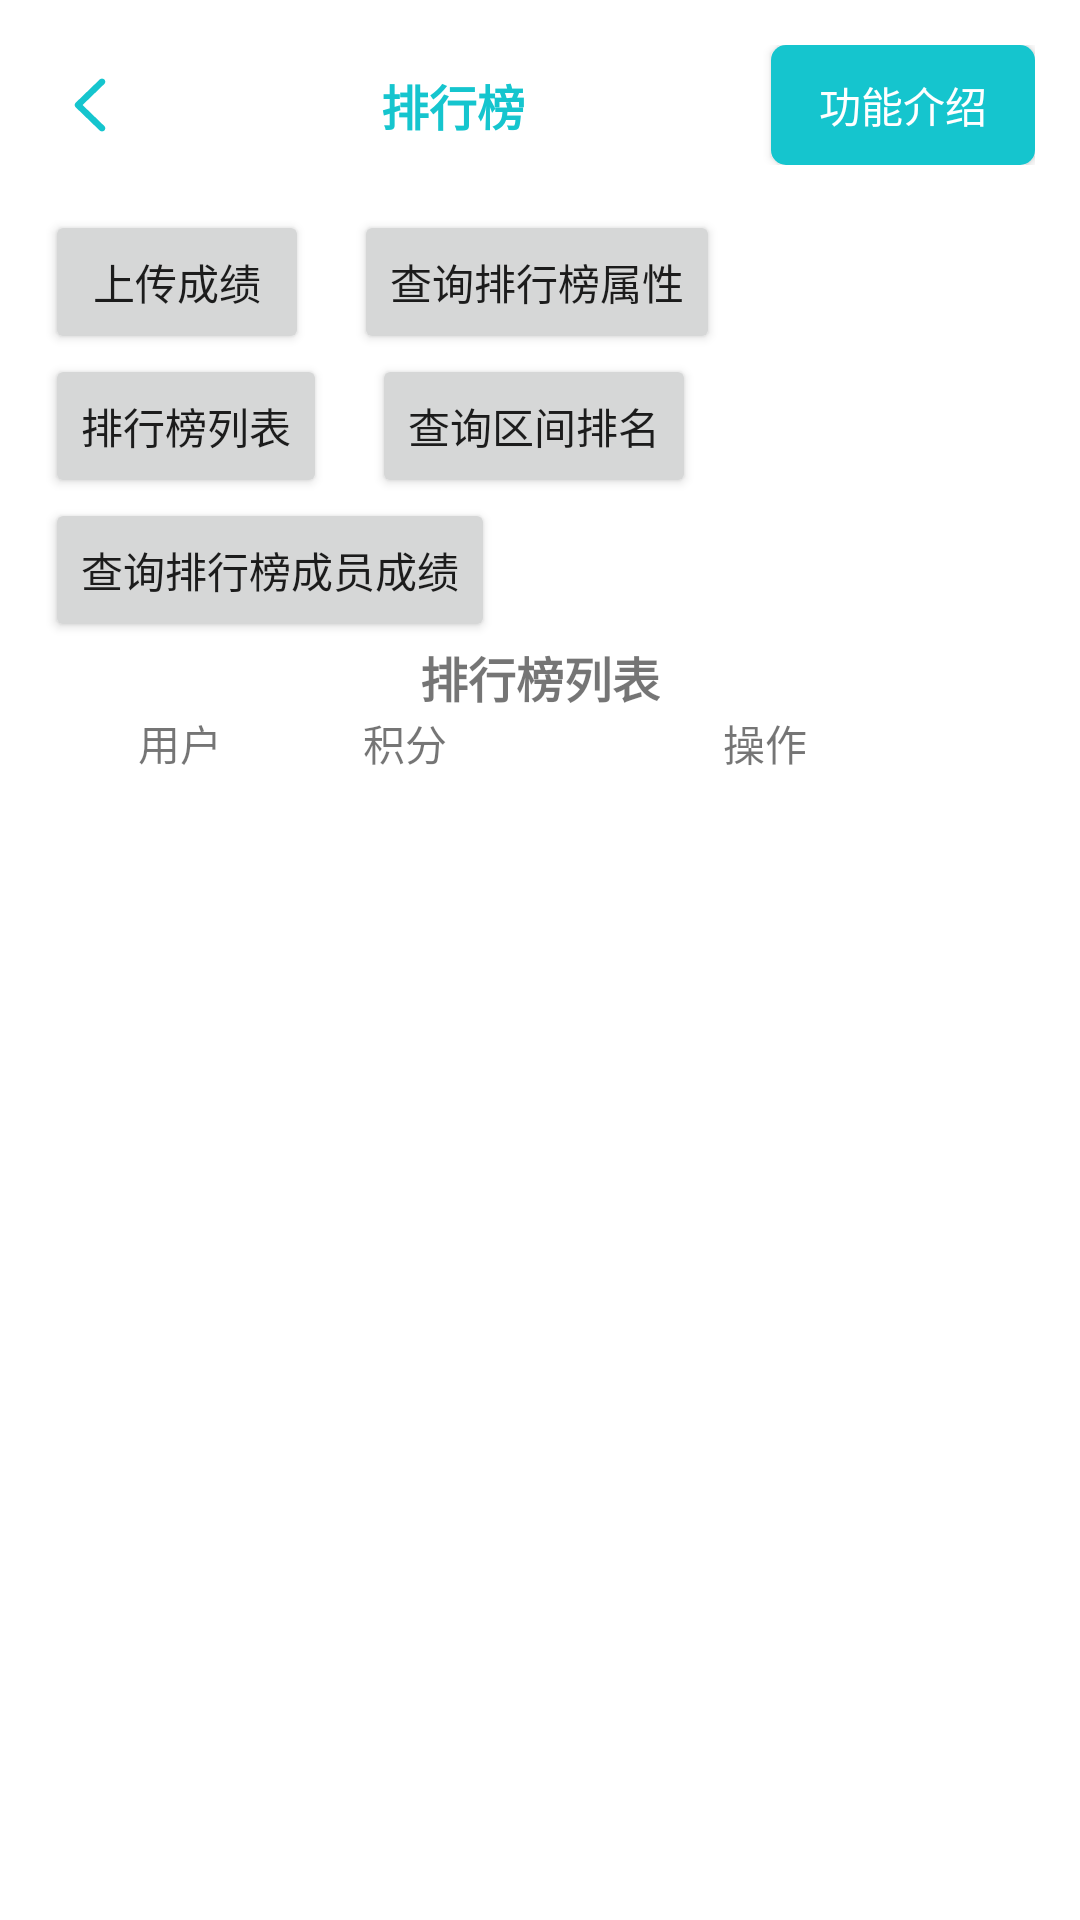

Point at icon controls on the screen. Image size 1080 x 1920, points as (x=x, y=y).
back: (x=90, y=105)
